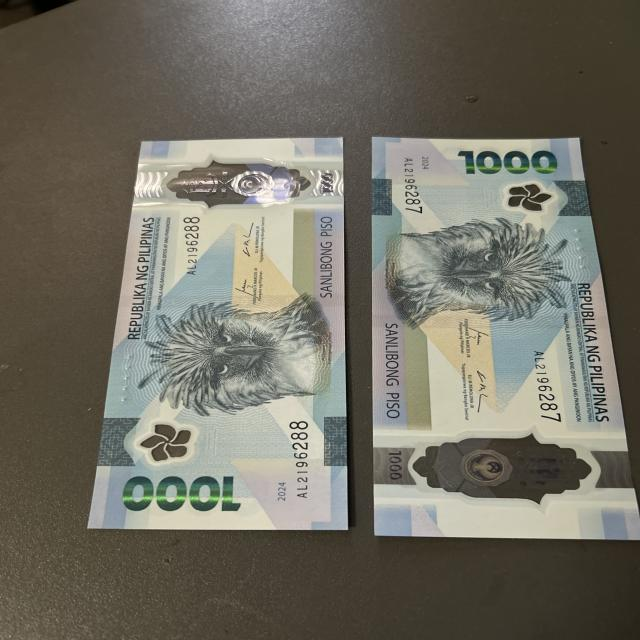clear_window: (376, 432, 610, 502), (154, 147, 316, 210)
eagle: (374, 214, 565, 320), (149, 302, 325, 406)
sampaguita: (132, 416, 204, 464), (501, 178, 557, 214)
serial_number: (523, 342, 575, 426), (284, 417, 325, 506), (171, 210, 209, 288), (400, 159, 430, 220)
value: (118, 474, 247, 512), (456, 146, 570, 179)
